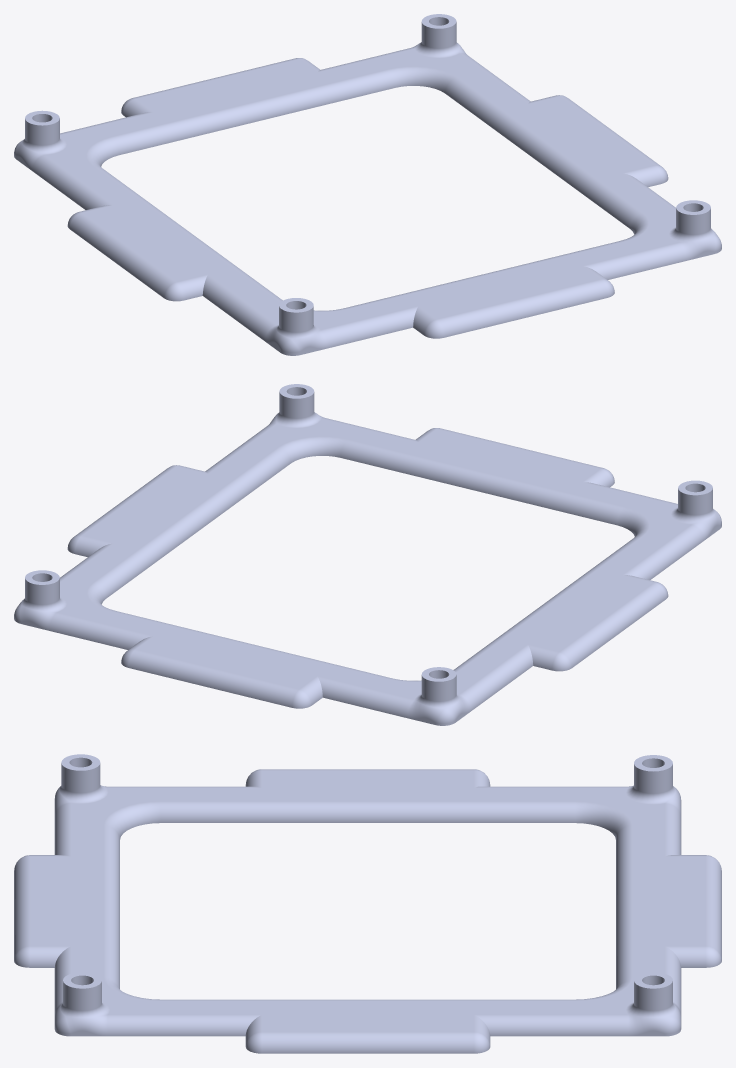
Rendered from Power_Holder.glb.
3 renders of one model, top to bottom at view 1: azimuth 30°, elevation 25°; view 2: azimuth 150°, elevation 25°; view 3: azimuth 270°, elevation 25°, orthographic. The views are drawn at different scales.
Parts seen in each view (by area): view 1: Power Holder; view 2: Power Holder; view 3: Power Holder.
Part boxes in pixels (x1,y1,x2,y2): Power Holder: (14, 14, 721, 355); Power Holder: (14, 384, 721, 725); Power Holder: (14, 754, 721, 1053).
Bounding box in the file's own units: 0.1013 × 0.00762 × 0.1102.
